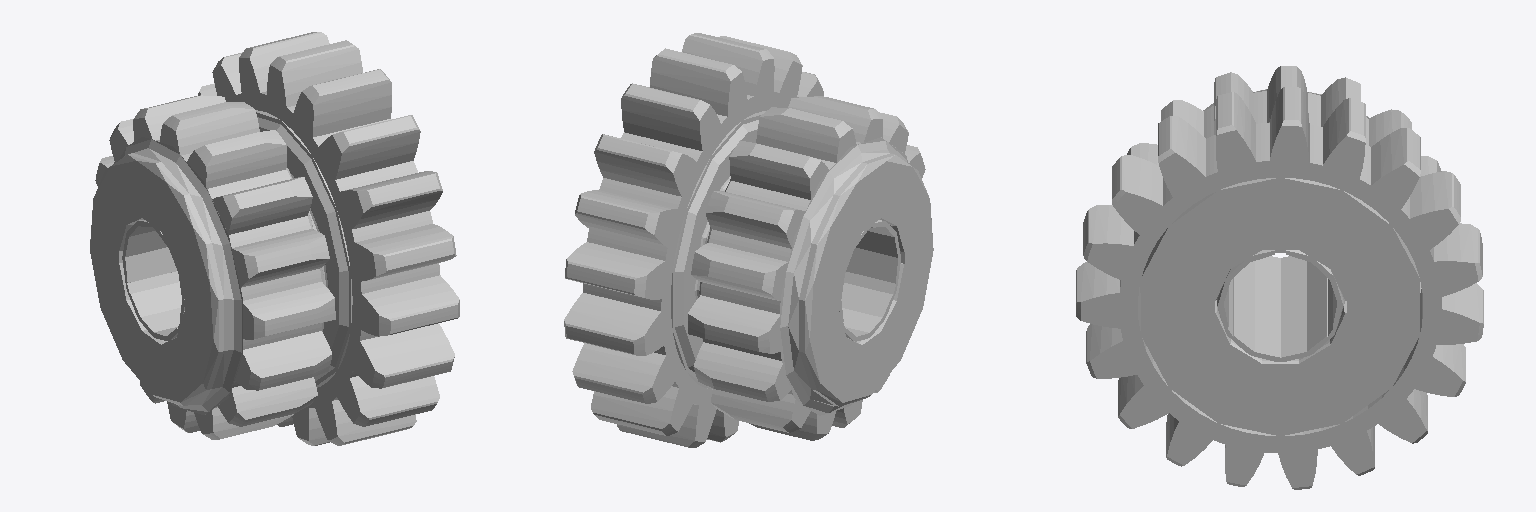
File: 71. Блок шестерен заднего хода.obj
3 views of the same model, side by side, from view 1: azimuth 30°, elevation 25°; view 2: azimuth 150°, elevation 25°; view 3: azimuth 270°, elevation 25° (orthographic).
Visible parts, largest first — view 1: Solid1, Solid1:1, Твердое тело1, Твердое тело1:1; view 2: Solid1, Solid1:1, Твердое тело1, Твердое тело1:1; view 3: Solid1, Твердое тело1, Твердое тело1:1, Solid1:1.
Part boxes in pixels (left/top/right/bottom): Solid1: left=198, top=32, right=459, bottom=445; Solid1:1: left=95, top=95, right=335, bottom=439; Твердое тело1: left=90, top=110, right=352, bottom=414; Твердое тело1:1: left=122, top=220, right=184, bottom=340; Solid1: left=564, top=33, right=823, bottom=447; Solid1:1: left=688, top=96, right=930, bottom=440; Твердое тело1: left=671, top=111, right=933, bottom=415; Твердое тело1:1: left=839, top=220, right=900, bottom=341; Solid1: left=1076, top=87, right=1483, bottom=489; Твердое тело1: left=1141, top=89, right=1419, bottom=435; Твердое тело1:1: left=1217, top=250, right=1344, bottom=361; Solid1:1: left=1127, top=66, right=1441, bottom=292.
Bounding box in the file's own units: 53 × 90.11 × 90.